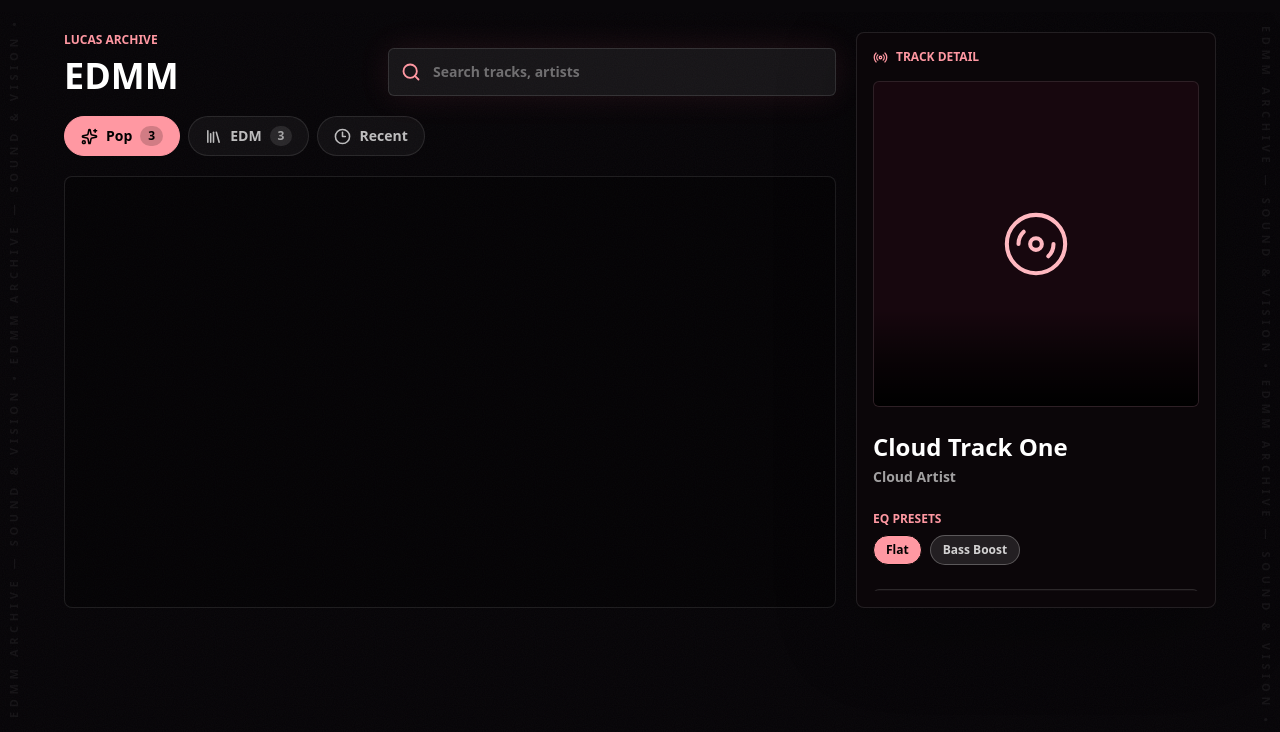
Test: MusicShell › clears the search field from the inline clear button and keeps focus
Type "lemonade" into the search field named "search catalog". click: x=628, y=72
box: [433,50,823,94]
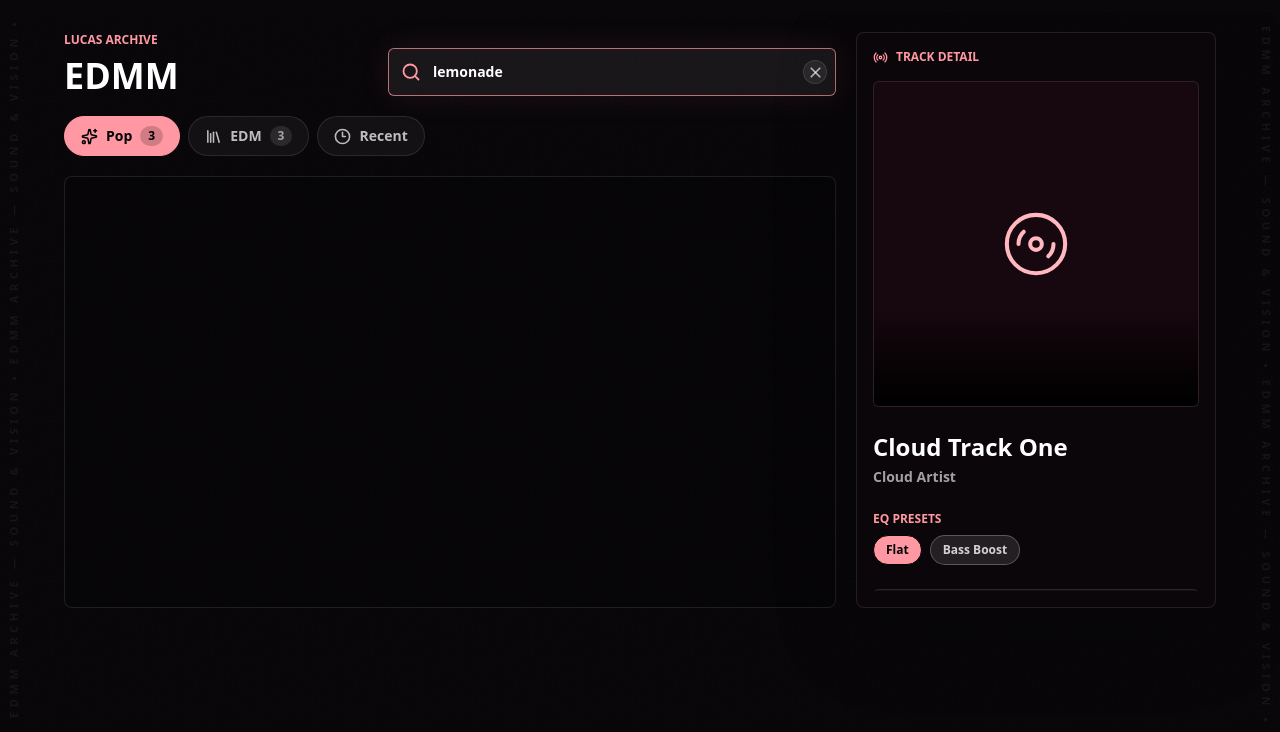
Click the button named "Clear search". click: x=815, y=72
box: [803,60,827,84]
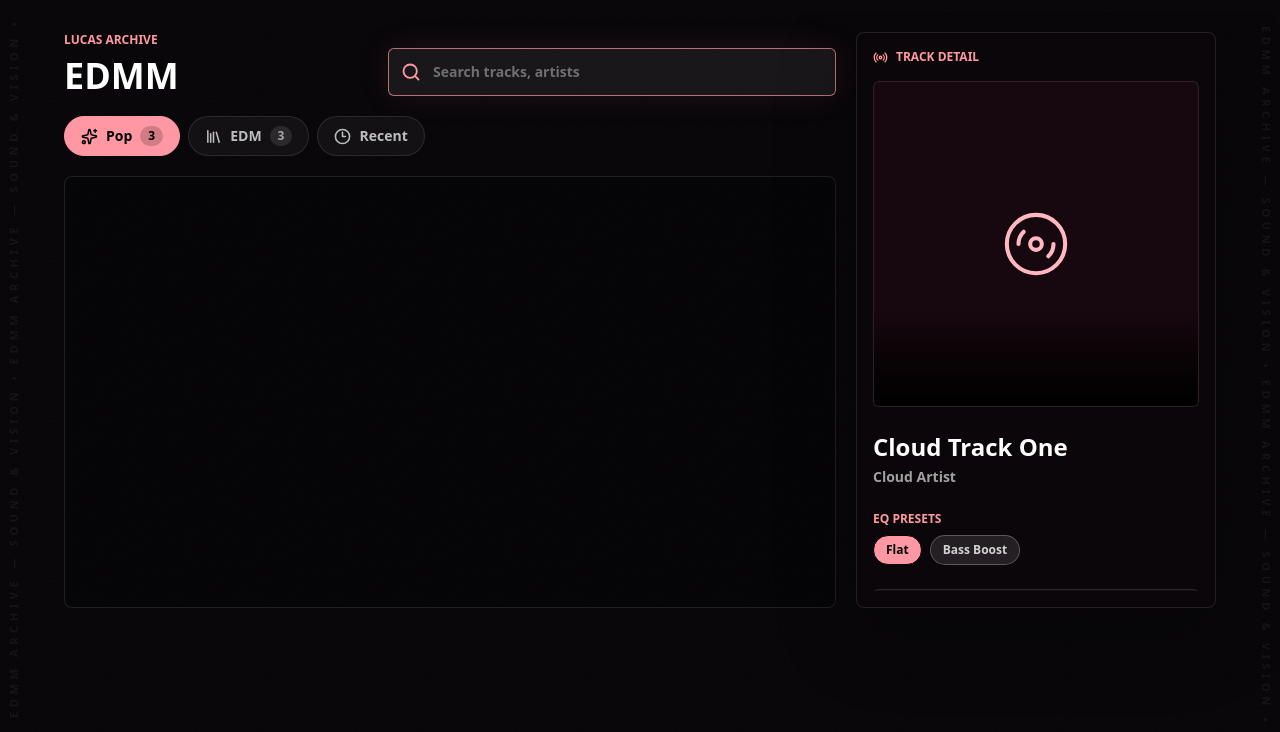
Expected: the search field named "search catalog" is empty, [433,50,823,94]
